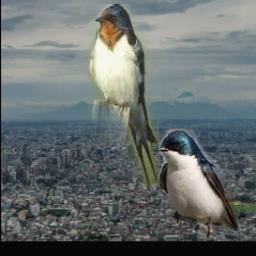Swallow: (89, 5, 161, 186), (160, 128, 240, 238)
